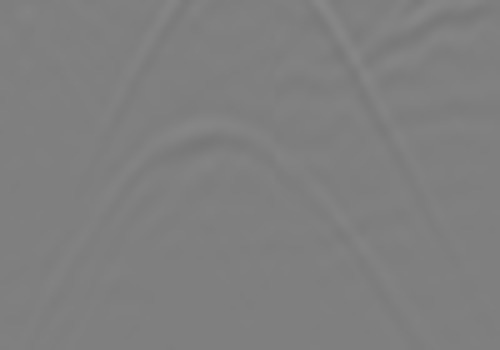hyperbola: (58, 115, 376, 261)
